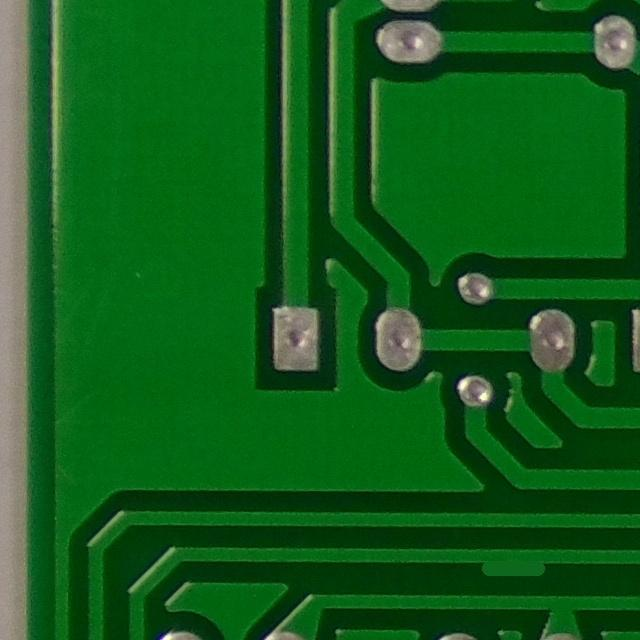spur: (462, 534, 562, 588)
